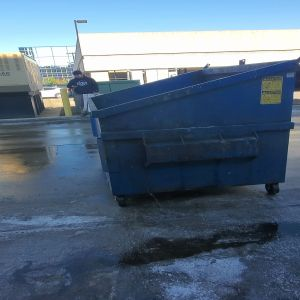Dumpster: (92, 63, 294, 209)
Person: (68, 69, 100, 93)
